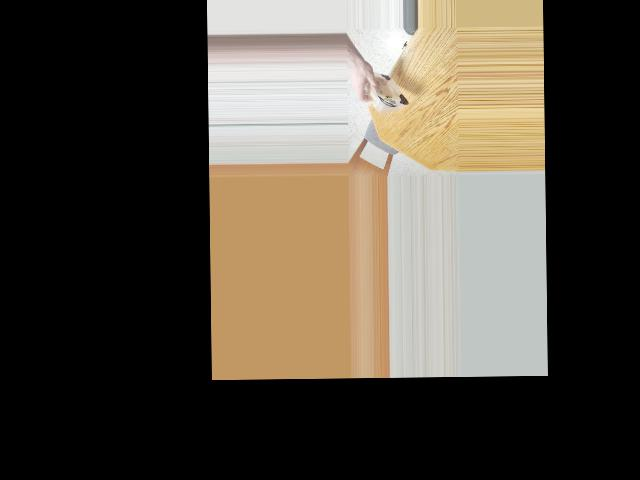cheese: (366, 59, 406, 117)
